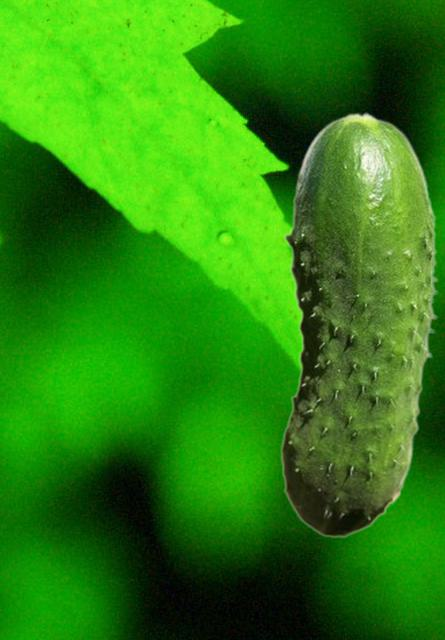cucumber: (280, 111, 438, 537)
